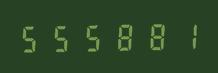eight: (108, 20, 137, 52), (138, 19, 167, 51)
five: (17, 21, 46, 54), (78, 20, 107, 53), (47, 21, 76, 53)
one: (168, 18, 197, 51)
